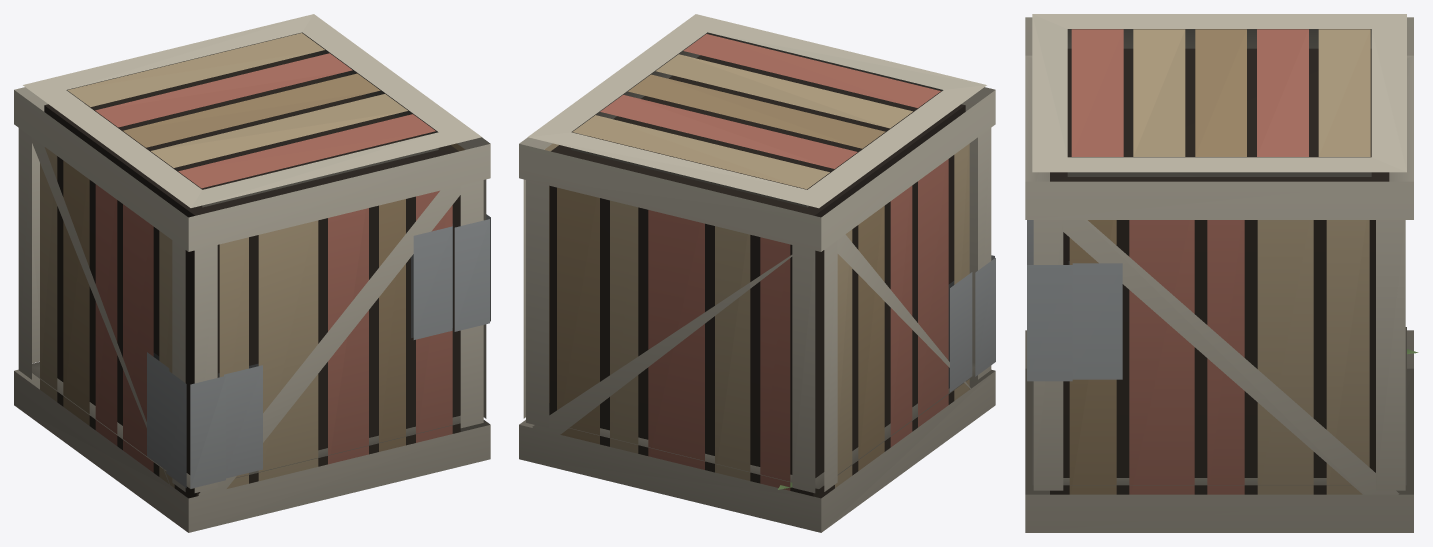
File: crate.lod.glb
3 views of the same model, side by side, from view 1: azimuth 30°, elevation 25°; view 2: azimuth 150°, elevation 25°; view 3: azimuth 270°, elevation 25° (orthographic). The views are drawn at different scales.
Visible parts, largest first — view 1: crate.001; view 2: crate.001; view 3: crate.001.
Boxes of the visible parts, x1,y1,x2,y2 form: crate.001: [14, 14, 490, 532]; crate.001: [519, 14, 995, 532]; crate.001: [1025, 14, 1418, 532].
Bounding box in the file's own units: 0.9516 × 0.96 × 0.9606.
